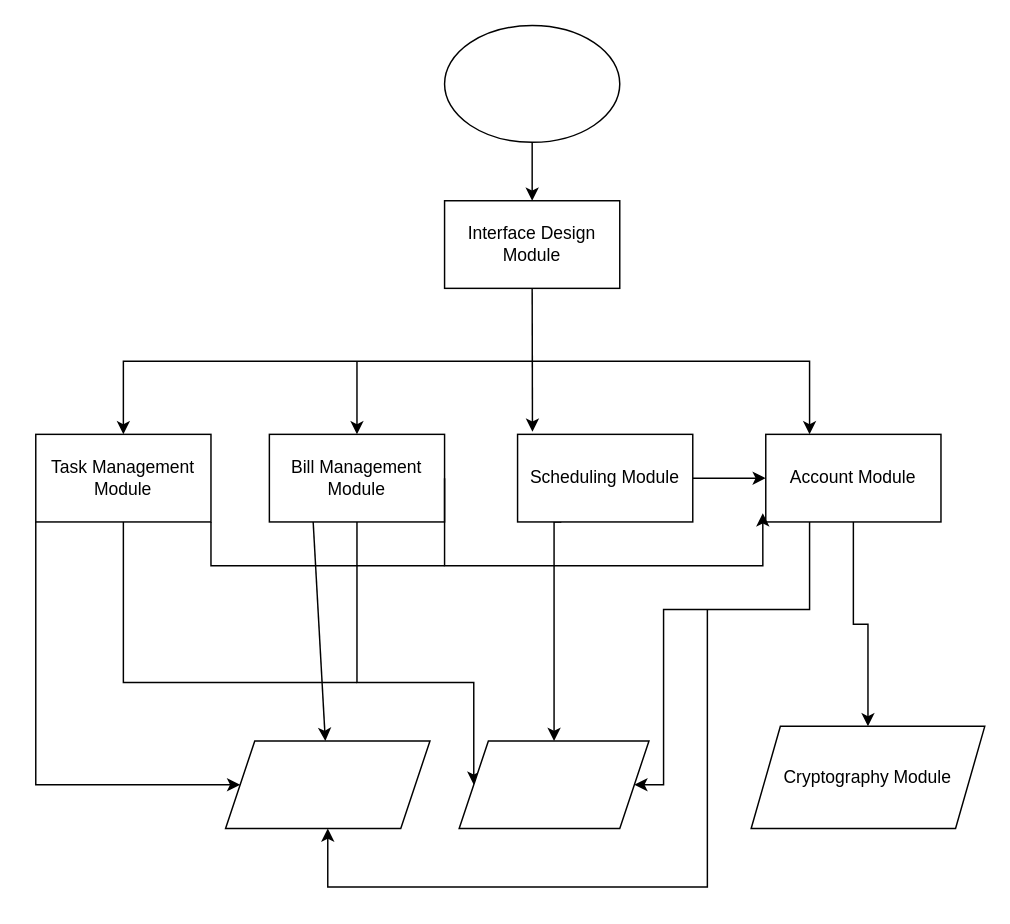
Some shapes in this 1010 by 924 pixel diagram are drawn without their labels. Each missing label, with the centre of its shape:
Database Interface Module: point (327, 784)
Hardware-Hiding Module: point (531, 83)
Network Interface Module: point (553, 784)
